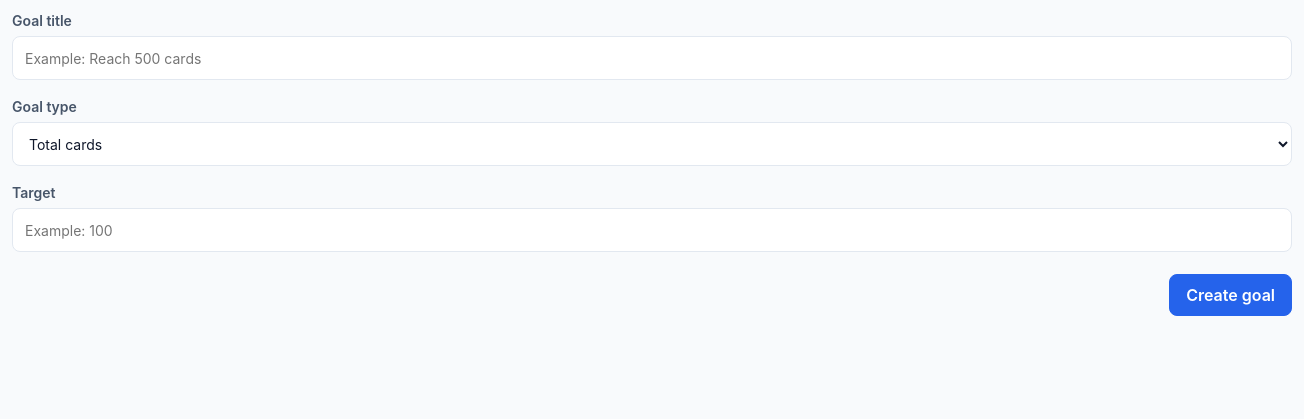
CollectionGoalForm › should show language field for language cards goal
Select "Cards by language" in the dropdown labelled "Goal type". click: (652, 144)
box: [12,122,1292,166]
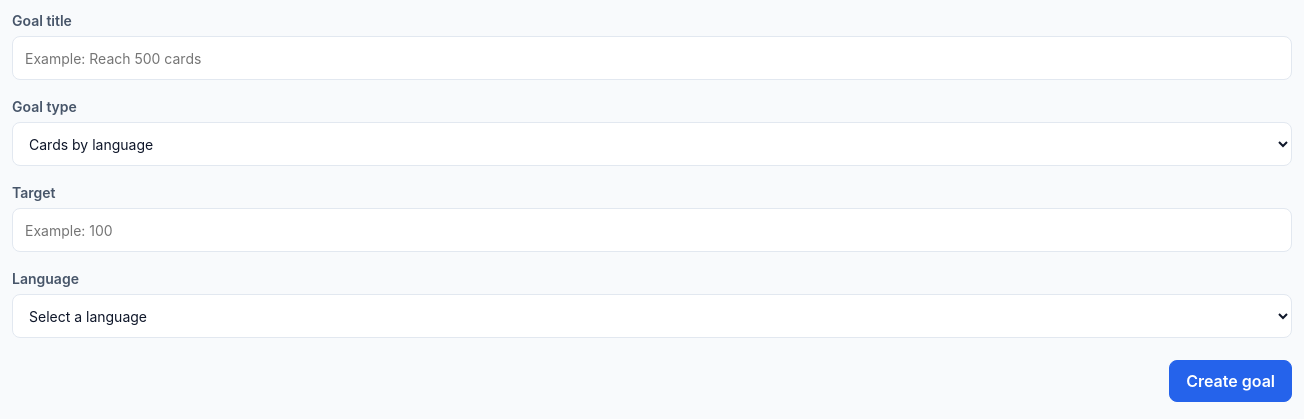
Check: the number field labelled "Target" is shown, box [12,208,1292,252]
Check: the dropdown labelled "Language" is shown, box [12,294,1292,338]
